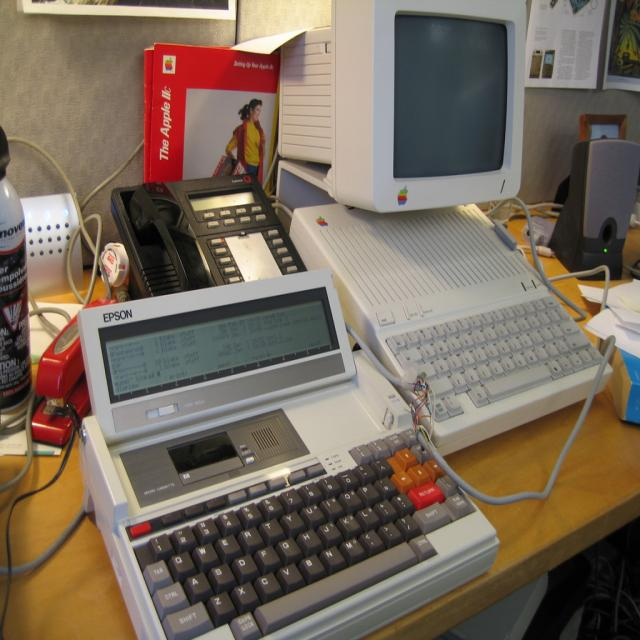desk: (0, 186, 639, 639)
laptop: (76, 268, 494, 640), (291, 198, 616, 460)
tv: (332, 2, 526, 216)
